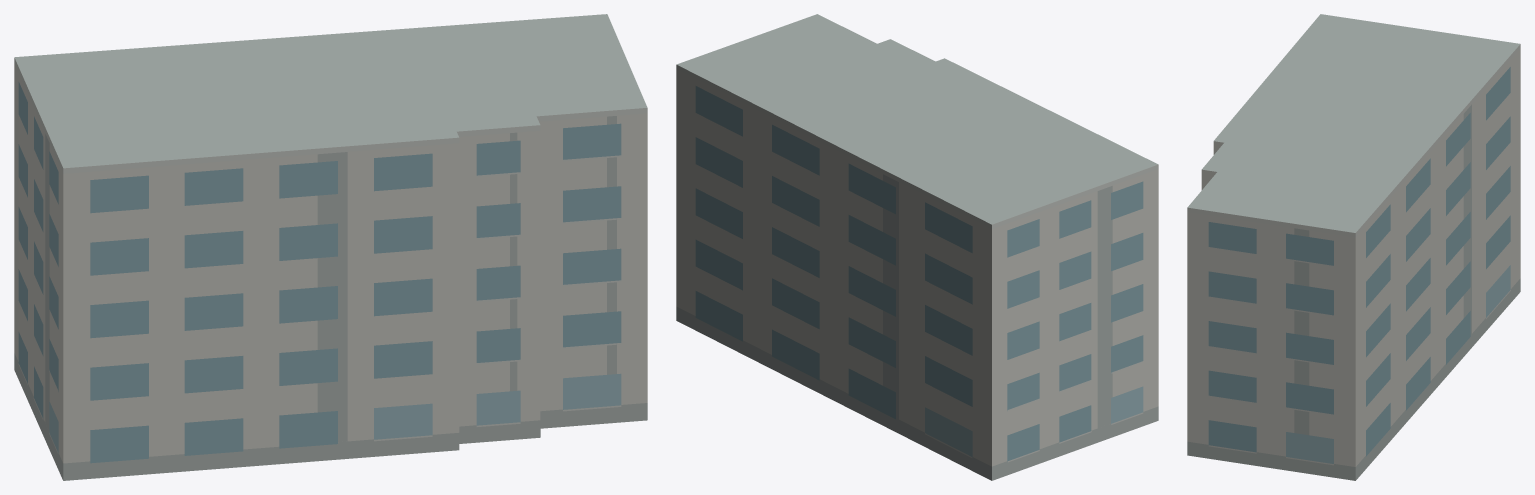
Rendered from survey-upis-33002563.glb.
3 renders of one model, left to right at view 1: azimuth 30°, elevation 25°; view 2: azimuth 150°, elevation 25°; view 3: azimuth 270°, elevation 25°, orthographic. The views are drawn at different scales.
Visible parts, largest first — view 1: survey-upis-33002563.tmp; view 2: survey-upis-33002563.tmp; view 3: survey-upis-33002563.tmp.
Part boxes in pixels (<box>): survey-upis-33002563.tmp: <box>14,14,647,480</box>; survey-upis-33002563.tmp: <box>676,14,1158,480</box>; survey-upis-33002563.tmp: <box>1187,14,1520,480</box>.
Bounding box in the file's own units: 25.51 × 13.45 × 16.4.
